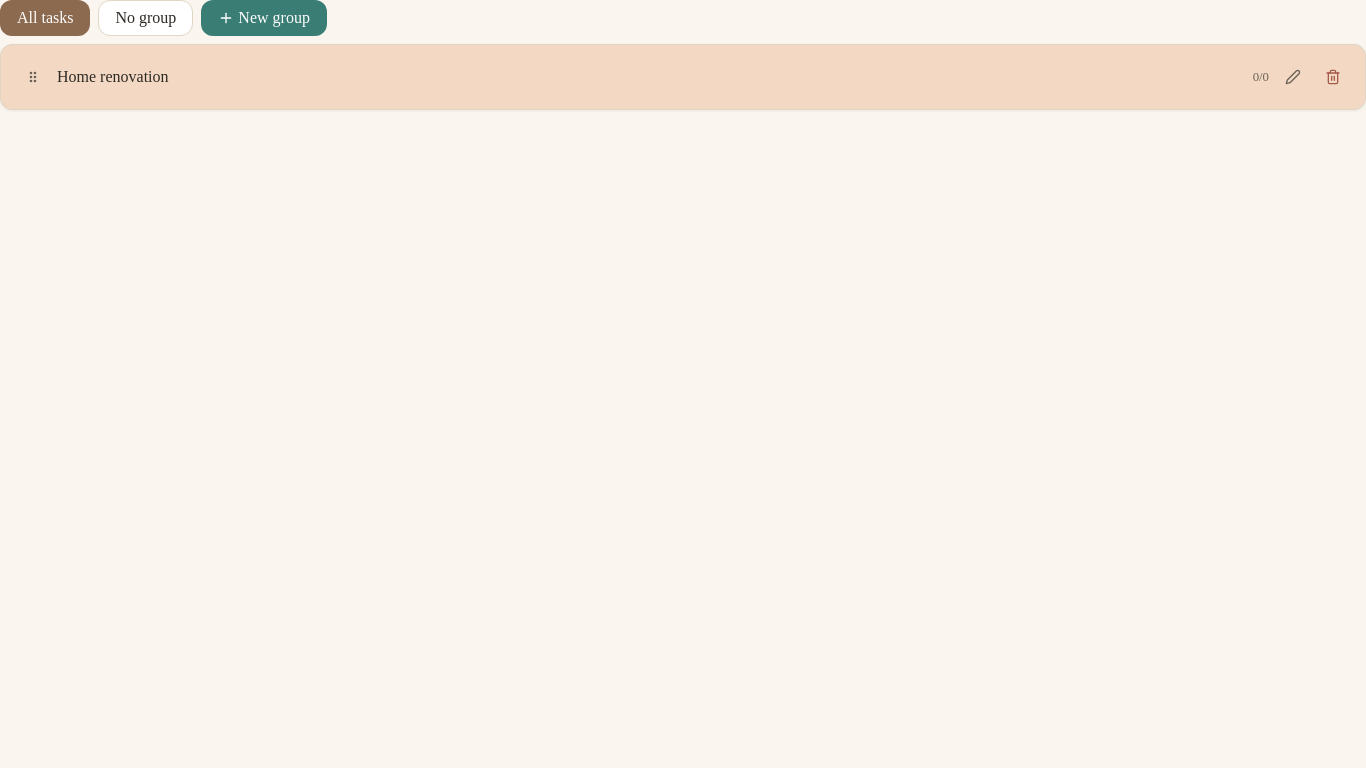
GroupSidebar › opens the create-group modal when New group is clicked
The image size is (1366, 768).
Click the button "New group" at (264, 18), box x1=201 y1=0 x2=327 y2=36
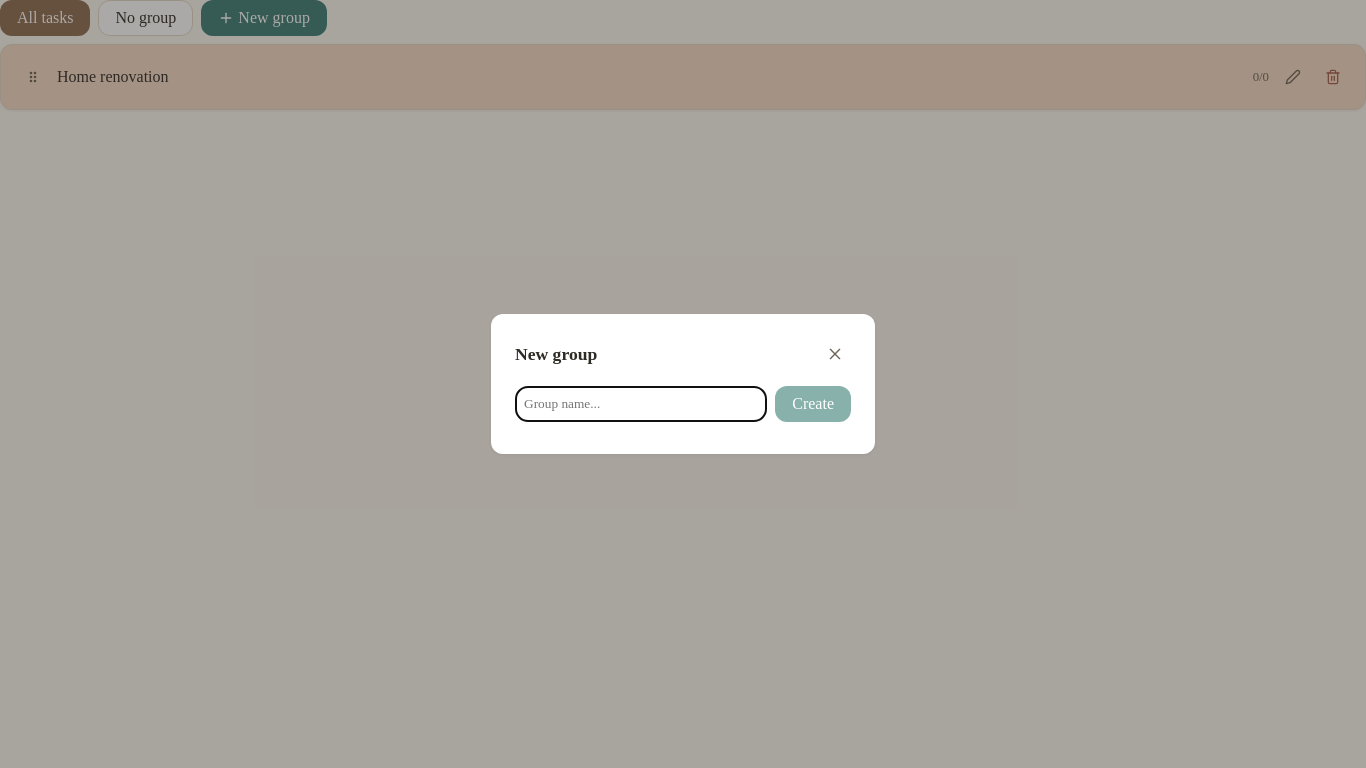
Expected: the dialog "New group" is shown, x1=491 y1=314 x2=875 y2=454
Expected: the field labelled "Group name" is shown, x1=515 y1=386 x2=767 y2=422
